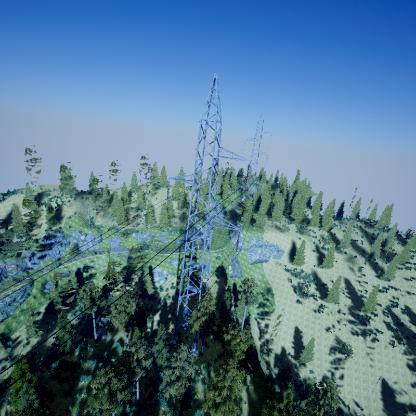tower: (159, 71, 251, 357), (236, 112, 266, 211)
